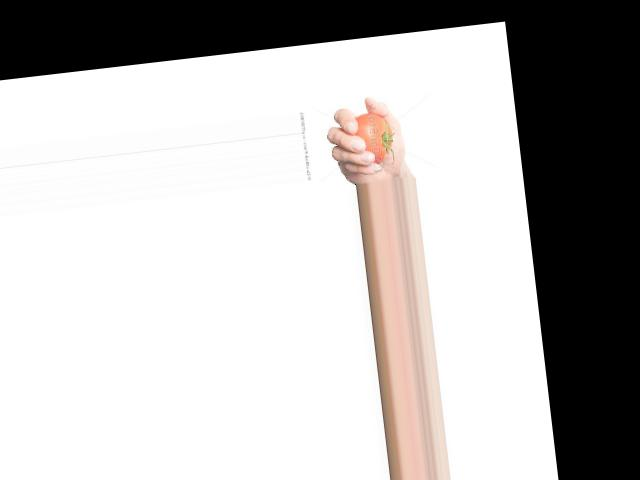tomato: (353, 110, 394, 165)
